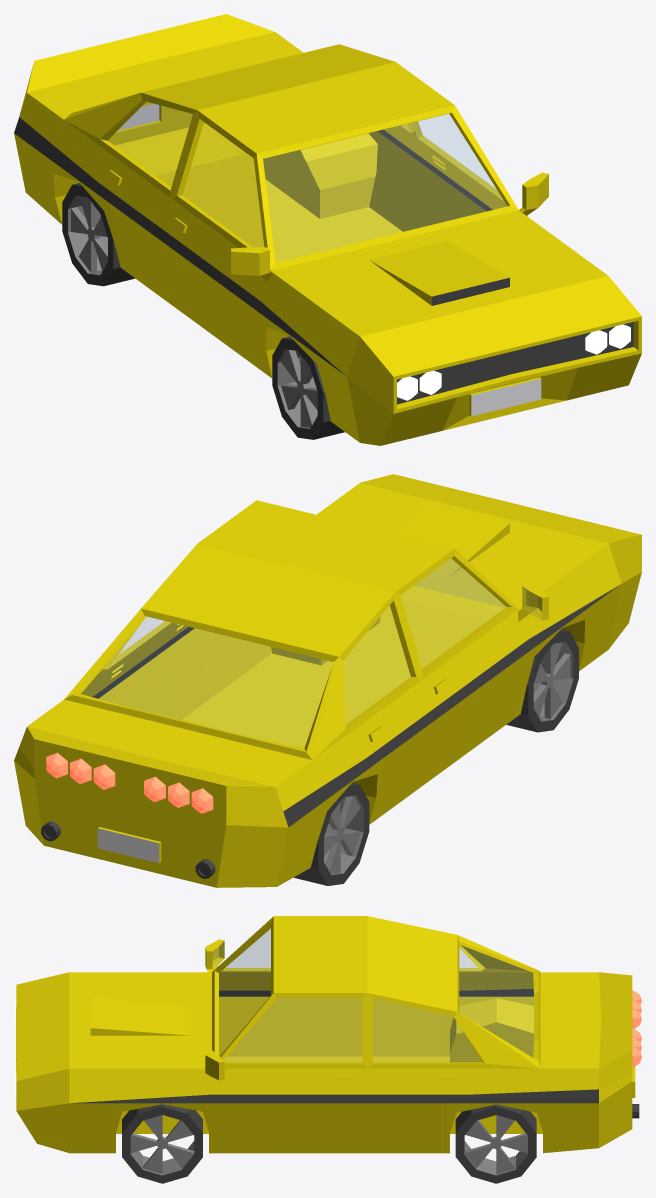
The model's file is muscle.glb.
The picture shows the model from 3 angles, top to bottom: view 1: azimuth 30°, elevation 25°; view 2: azimuth 150°, elevation 25°; view 3: azimuth 270°, elevation 25°; orthographic projection. The views are drawn at different scales.
Visible parts, largest first — view 1: Muscle, Muscle wheel front right, Muscle wheel rear right; view 2: Muscle, Muscle wheel front right, Muscle wheel rear right; view 3: Muscle, Muscle wheel front left, Muscle wheel rear left.
Boxes of the visible parts, <box> form: Muscle: <box>14,14,641,445</box>; Muscle wheel front right: <box>272,336,344,439</box>; Muscle wheel rear right: <box>62,183,134,286</box>; Muscle: <box>14,474,641,887</box>; Muscle wheel front right: <box>506,629,578,732</box>; Muscle wheel rear right: <box>294,783,369,885</box>; Muscle: <box>14,916,641,1153</box>; Muscle wheel front left: <box>122,1104,202,1183</box>; Muscle wheel rear left: <box>455,1104,536,1183</box>.
Size of the model in its own units: 2.81 by 1.91 by 6.06.
